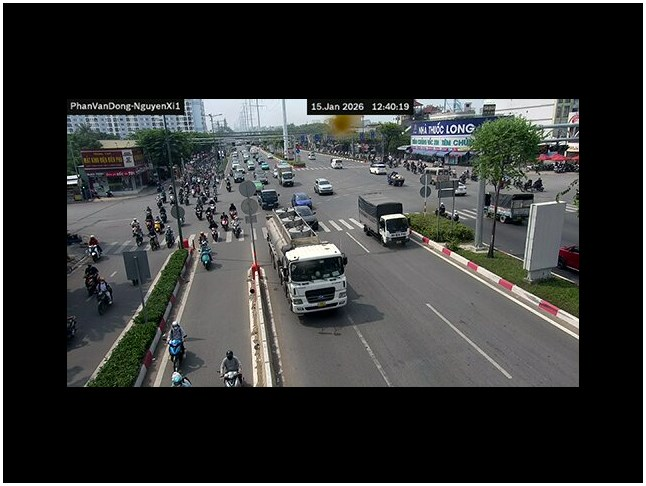bus: (356, 192, 410, 247)
car: (291, 193, 318, 226), (257, 187, 280, 209), (291, 192, 316, 209), (313, 178, 335, 195), (387, 171, 405, 186), (370, 162, 389, 175), (280, 172, 296, 186), (454, 184, 468, 197)
truck: (269, 219, 349, 316), (356, 191, 409, 247)
